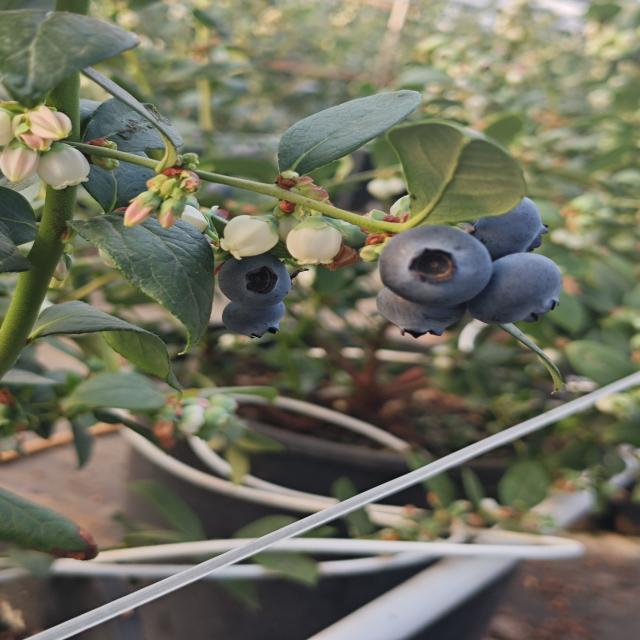ripe: (376, 223, 494, 308), (473, 245, 570, 330), (458, 186, 554, 262), (215, 250, 297, 311), (214, 290, 291, 341)
